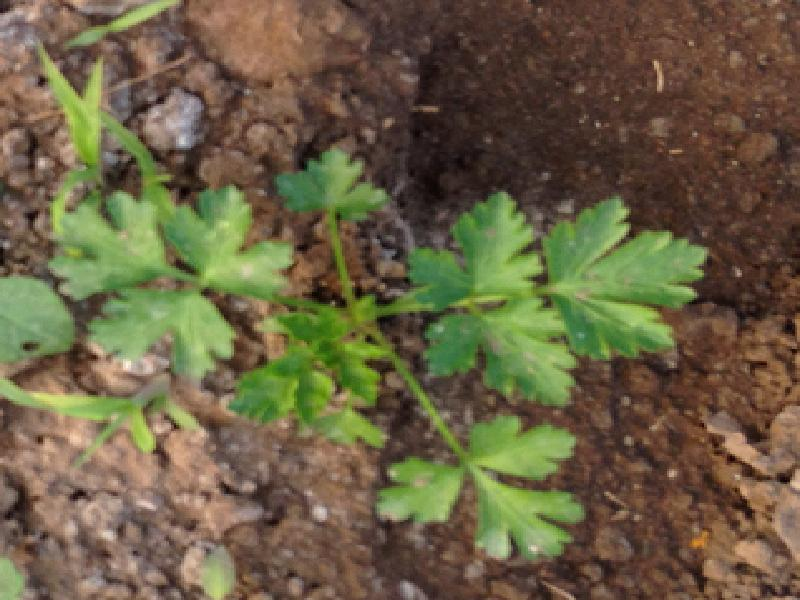radish: (90, 37, 751, 454)
